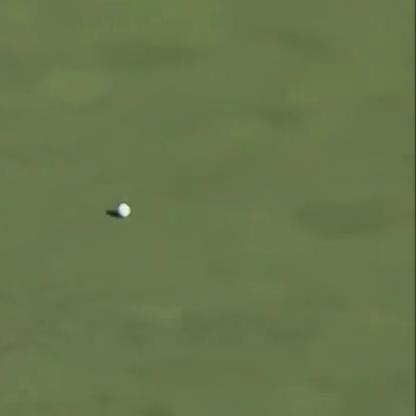golfball: (113, 201, 131, 217)
